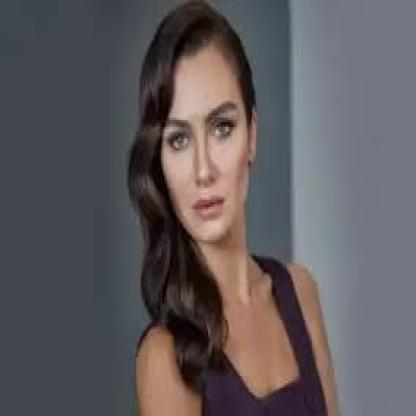person: (148, 11, 256, 248)
